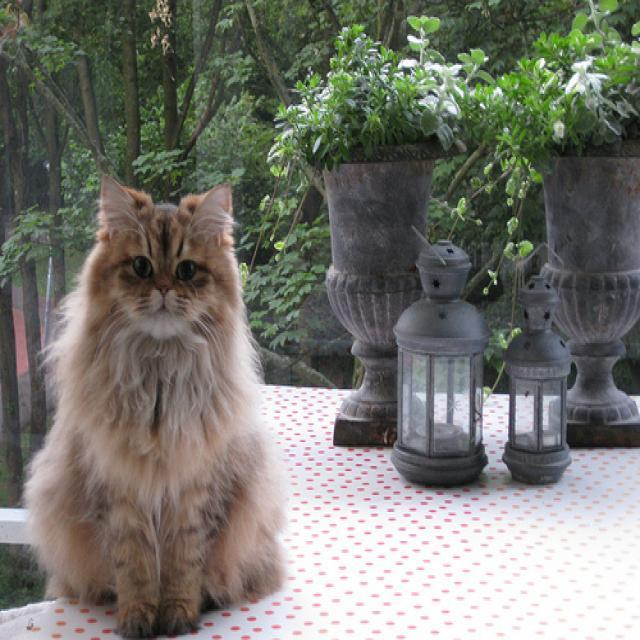Persian: (94, 172, 240, 342)
